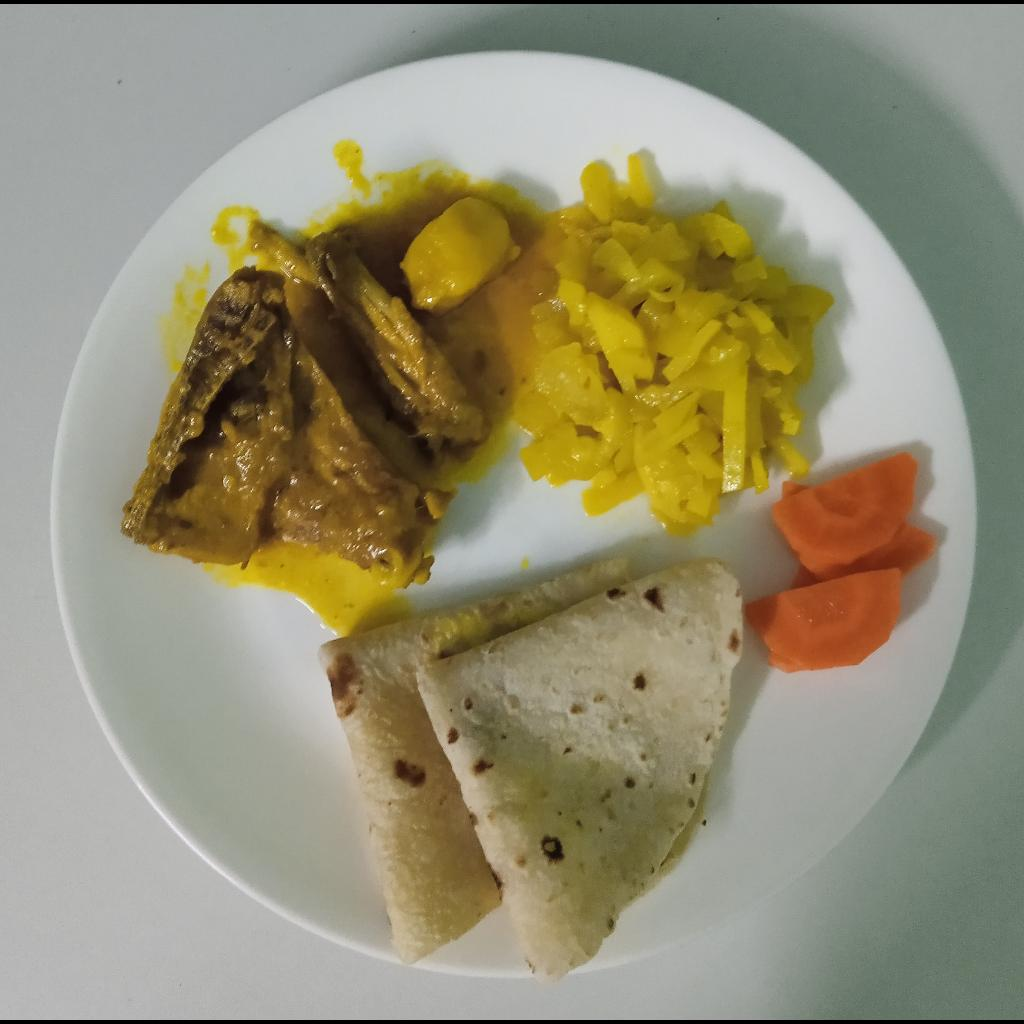carrot: (745, 448, 944, 678)
chicken: (115, 222, 492, 597)
potato: (402, 193, 529, 322)
potol: (510, 153, 828, 527)
ruti: (318, 552, 741, 990)
